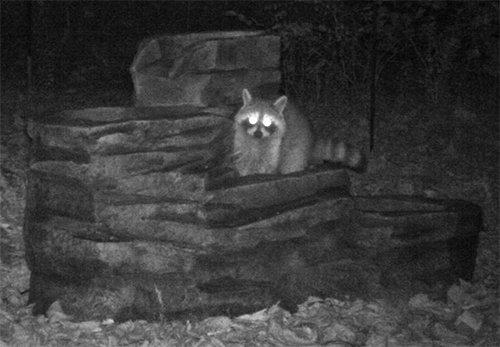raccoon: (210, 74, 386, 187)
